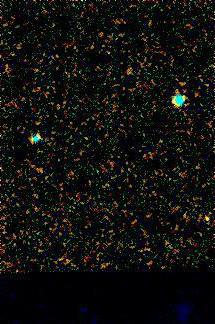star: (190, 203, 215, 233)
